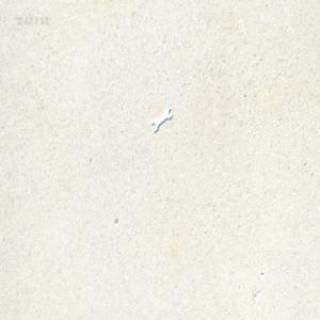Wrenchtrack_idkeyframe: (151, 108, 172, 133)
